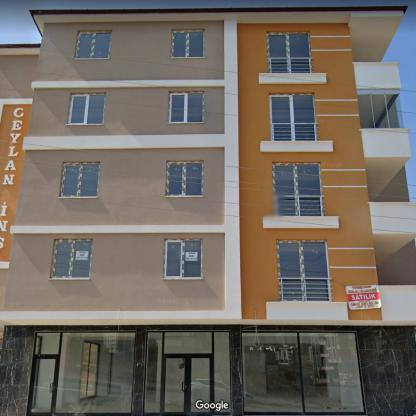door: (162, 355, 213, 414), (26, 356, 58, 414)
window: (242, 331, 366, 415), (35, 332, 134, 414), (144, 331, 231, 415), (276, 240, 330, 301), (272, 162, 322, 216), (270, 95, 316, 141), (267, 32, 312, 74), (358, 89, 404, 128), (51, 240, 93, 277), (164, 239, 202, 277), (60, 161, 99, 197), (67, 93, 105, 124), (166, 162, 201, 195), (169, 92, 203, 122), (76, 31, 111, 58), (171, 31, 204, 57)
